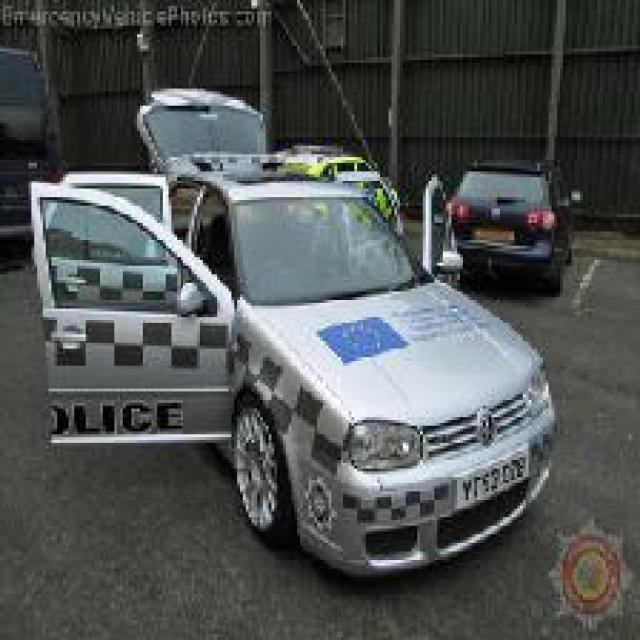emergency: (133, 154, 563, 584)
